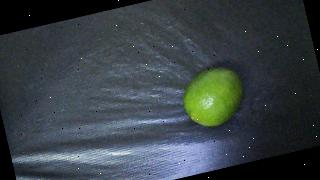LOCAL: (178, 62, 251, 131)
